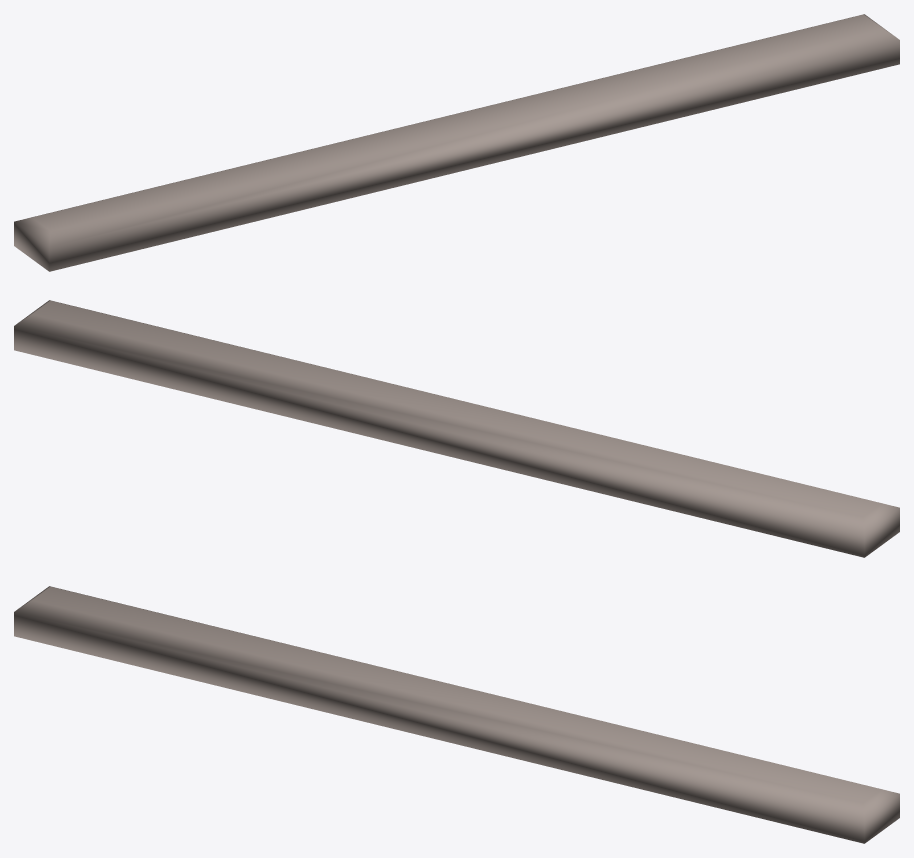
File: InishmoreFlatRock_1.5width_Var2.fbx
The picture shows the model from 3 angles, top to bottom: view 1: azimuth 30°, elevation 25°; view 2: azimuth 150°, elevation 25°; view 3: azimuth 330°, elevation 25°; orthographic projection.
Visible parts, largest first — view 1: InishmoreFlatRock.001; view 2: InishmoreFlatRock.001; view 3: InishmoreFlatRock.001.
Boxes of the visible parts, x1,y1,x2,y2 form: InishmoreFlatRock.001: (14, 14, 899, 271); InishmoreFlatRock.001: (14, 300, 899, 557); InishmoreFlatRock.001: (14, 586, 899, 843).
Bounding box in the file's own units: 815 × 29.45 × 58.72.
